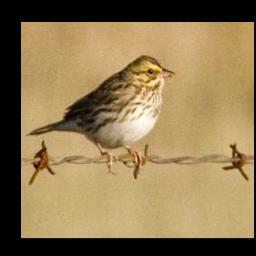Sparrow: (26, 51, 178, 174)
